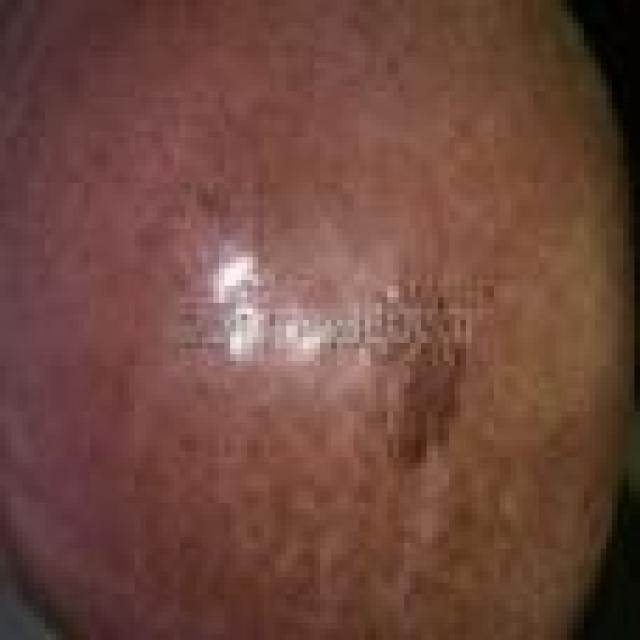Melasma: (133, 0, 624, 640)
